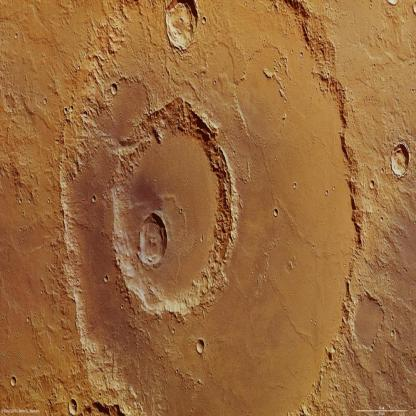craters: (50, 0, 368, 415), (100, 90, 242, 317), (233, 37, 297, 147), (131, 208, 173, 284), (157, 0, 206, 54), (378, 135, 416, 186), (190, 333, 215, 364), (59, 392, 86, 416), (101, 74, 121, 101), (197, 226, 210, 249), (91, 190, 104, 212), (196, 11, 209, 31), (272, 194, 282, 218), (291, 175, 300, 201), (178, 199, 190, 214), (101, 272, 113, 287), (330, 176, 338, 192), (324, 186, 332, 201)
